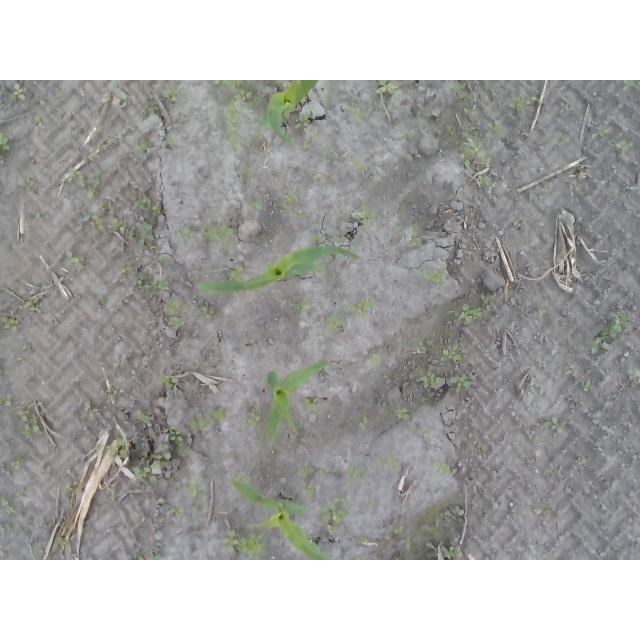Maize: (232, 477, 334, 560), (195, 247, 358, 294), (265, 359, 334, 449), (257, 80, 320, 145)
Weeds: (590, 312, 634, 353), (226, 89, 253, 151), (461, 138, 492, 186), (416, 368, 473, 392), (16, 400, 49, 440), (222, 529, 264, 560), (321, 497, 352, 536), (68, 167, 102, 200), (191, 407, 226, 433), (204, 222, 241, 246), (0, 490, 32, 515), (79, 209, 105, 239), (294, 110, 321, 138), (184, 480, 209, 510), (298, 465, 319, 499), (136, 273, 173, 292), (430, 343, 465, 362), (62, 248, 87, 273), (346, 296, 374, 317), (119, 256, 142, 281), (164, 301, 185, 328), (420, 264, 448, 284), (242, 190, 270, 210), (104, 435, 129, 457), (114, 215, 135, 241), (7, 81, 29, 105), (286, 191, 305, 218), (351, 206, 378, 225), (152, 445, 172, 468), (375, 454, 402, 471), (0, 128, 14, 160), (134, 198, 161, 214), (351, 97, 367, 124), (512, 96, 537, 113), (488, 112, 513, 129), (169, 427, 187, 450), (176, 223, 197, 242), (449, 84, 472, 101), (409, 223, 424, 249), (348, 463, 369, 481), (609, 138, 636, 152), (376, 80, 399, 96), (459, 303, 479, 321), (543, 415, 561, 434), (433, 462, 453, 479), (130, 464, 150, 481), (248, 406, 261, 432), (214, 80, 247, 90), (159, 371, 177, 389), (133, 136, 151, 153), (164, 81, 177, 104), (169, 504, 186, 521), (19, 177, 36, 194), (227, 264, 245, 280), (326, 314, 343, 330), (352, 158, 369, 174), (23, 297, 41, 312), (462, 107, 482, 120), (591, 128, 611, 141), (394, 404, 410, 420), (304, 397, 320, 413), (447, 545, 464, 560), (369, 351, 384, 368), (622, 80, 640, 94), (11, 454, 26, 470), (201, 304, 216, 320), (32, 112, 49, 126), (571, 176, 585, 193), (63, 480, 77, 497), (142, 223, 155, 241), (480, 292, 496, 306), (0, 393, 16, 407), (136, 408, 153, 421), (553, 133, 570, 146), (400, 535, 412, 553), (356, 415, 368, 433), (3, 315, 18, 329), (239, 472, 256, 484), (98, 200, 113, 213), (290, 302, 306, 314), (147, 99, 160, 113), (351, 552, 370, 561), (82, 406, 97, 417), (96, 143, 109, 154), (417, 339, 427, 353), (496, 319, 513, 327), (157, 255, 169, 266), (574, 456, 587, 466), (319, 467, 331, 477), (418, 427, 430, 437), (583, 380, 593, 392), (243, 165, 253, 177), (543, 183, 555, 193), (559, 102, 569, 113), (392, 526, 404, 535), (132, 552, 144, 561), (399, 131, 409, 141), (97, 297, 108, 306), (539, 304, 545, 320), (150, 552, 162, 560), (357, 538, 367, 547), (23, 344, 33, 353), (303, 140, 312, 150), (283, 80, 293, 88), (56, 537, 65, 545), (367, 500, 376, 508), (635, 367, 640, 376), (449, 304, 452, 311)
